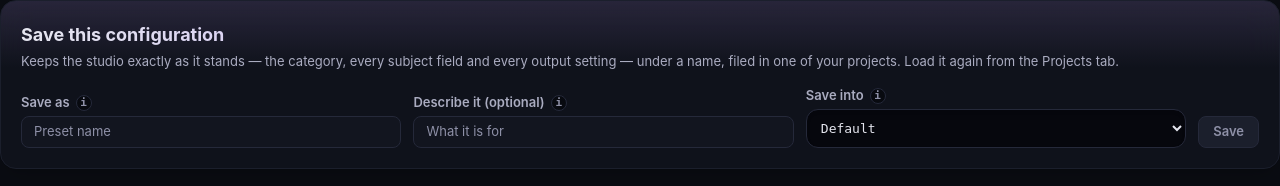
Scenario: PresetSavePanel › judges Update against the chosen project, not the whole library
In the field labelled "Save as": coordinates (211, 132) [21, 116, 401, 148], type "My Knight"
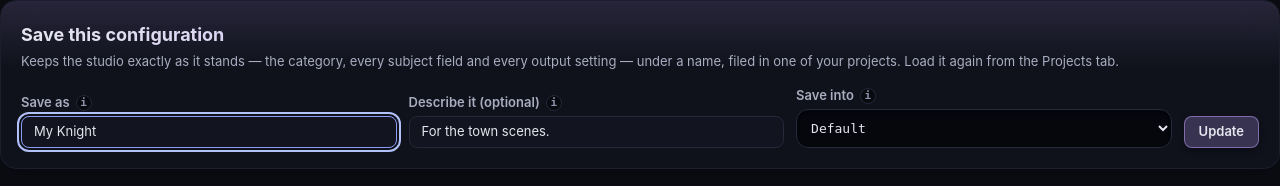
Check: the button "Update" is shown, box [1184, 116, 1259, 148]
Select "Harbour" in the dropdown labelled "Save into": coordinates (984, 128) [796, 109, 1172, 148]
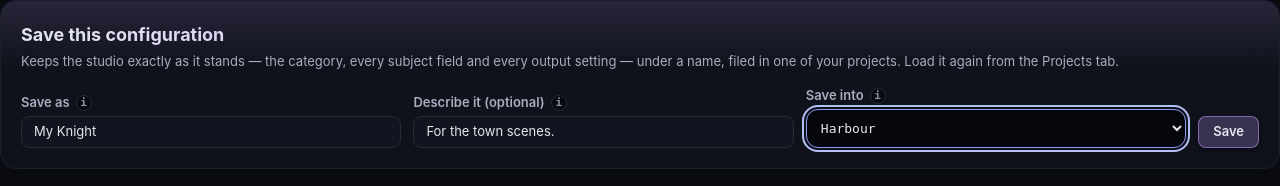
Check: the button "Save" is shown, box [1198, 116, 1259, 148]
Check: the button "Update" is gone
